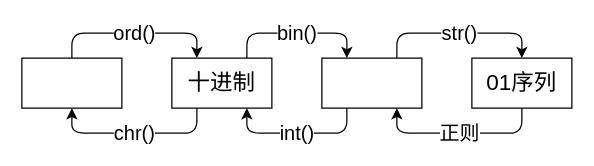
Image size: 594x166. Some labels were removed from this diagram. The shapes that lost their labels are listed below. From the top down, each one's centre as x and y in pixels, then its label:
At [71,82]: "Unicode".
At [371,82]: "二进制".
